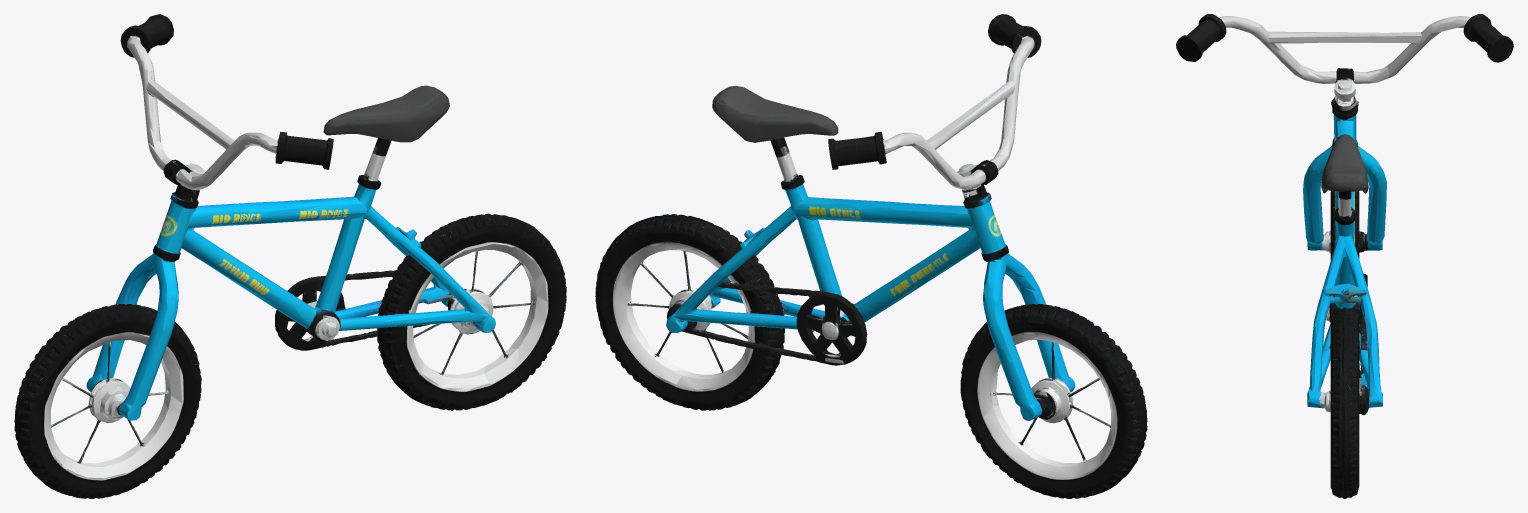
The model's file is veh_bmx.glb.
3 views of the same model, side by side, from view 1: azimuth 30°, elevation 25°; view 2: azimuth 150°, elevation 25°; view 3: azimuth 270°, elevation 25° (orthographic). The views are drawn at different scales.
Bounding box in the file's own units: 1.9 × 1.29 × 1.11.
1 material, 1 textured.
